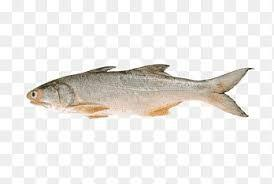Fourfinger Threadfish: (27, 63, 254, 120)
